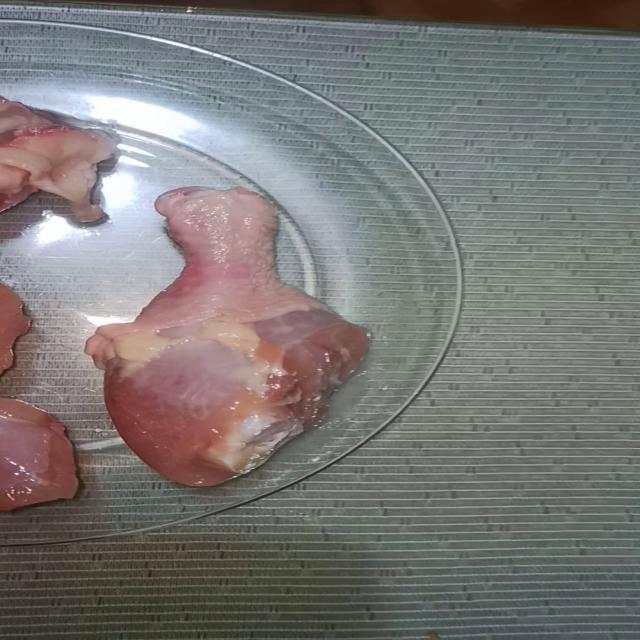chicken: (109, 192, 344, 491)
